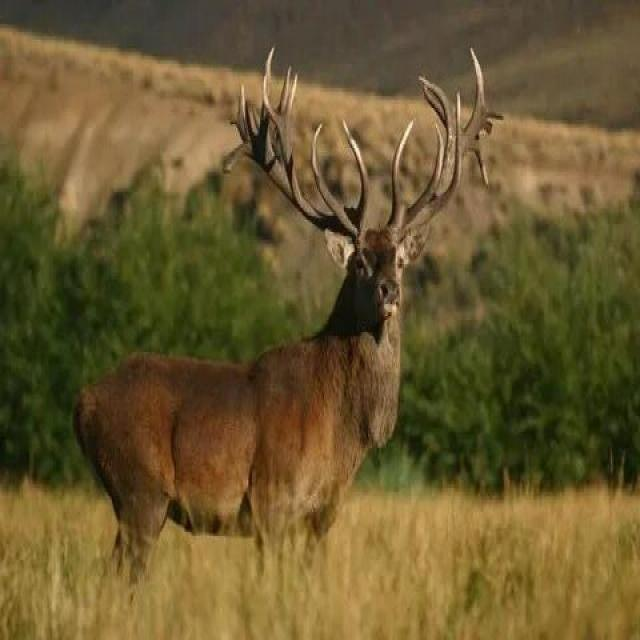deer: (104, 151, 485, 597)
